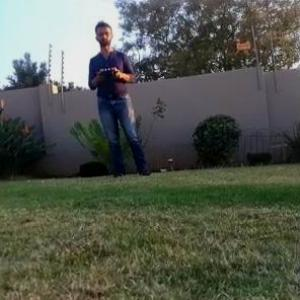follow: (86, 13, 158, 182)
